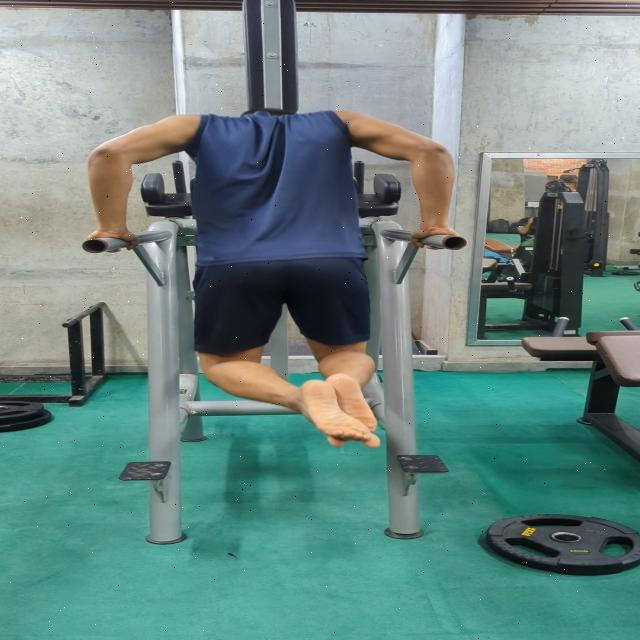Normal_Dips: (74, 98, 468, 450)
